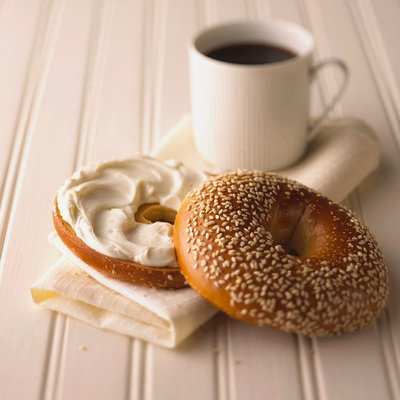pizza: (187, 15, 351, 172)
